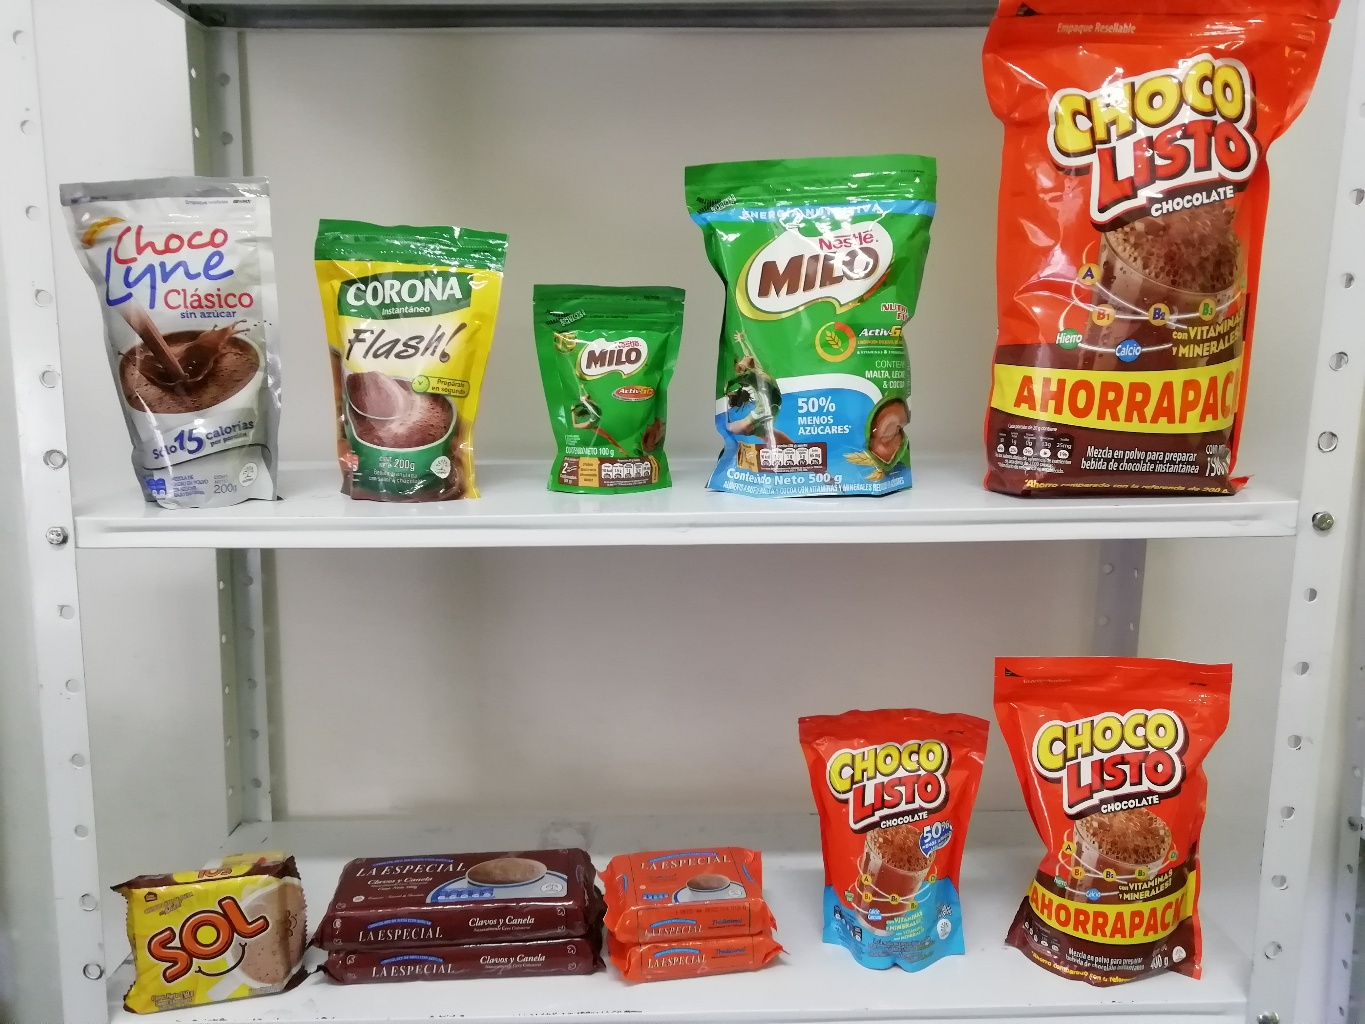COL0170103DYP1,500: (986, 0, 1339, 501)
COL0170104DYP20000: (790, 703, 998, 1005)
COL0170203DYP10000: (534, 282, 685, 503)
COL0170205DYP20000: (688, 157, 942, 501)
